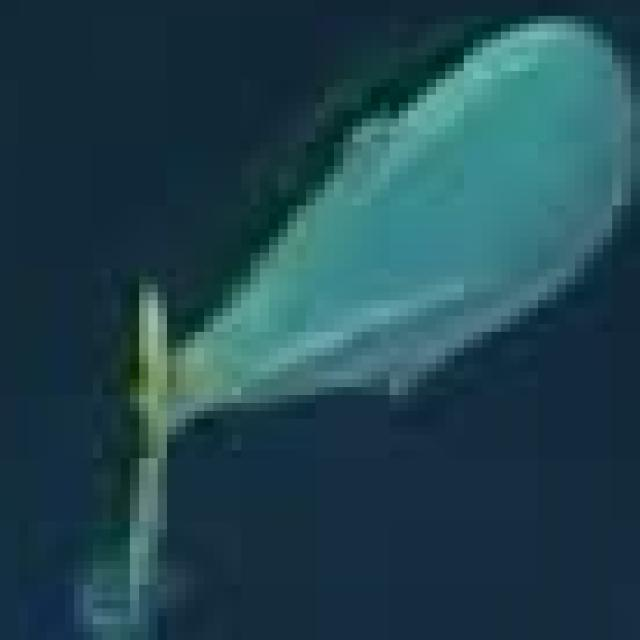fish: (0, 0, 631, 632)
